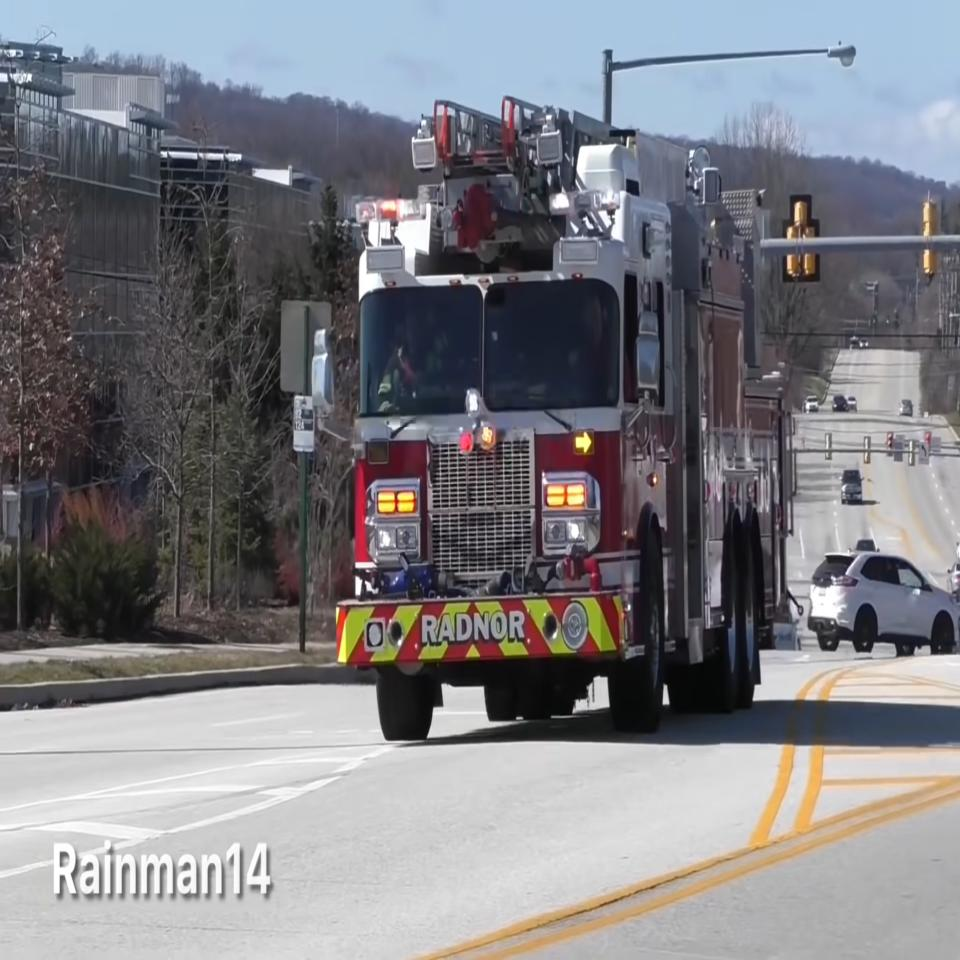viatura: (313, 93, 788, 744)
